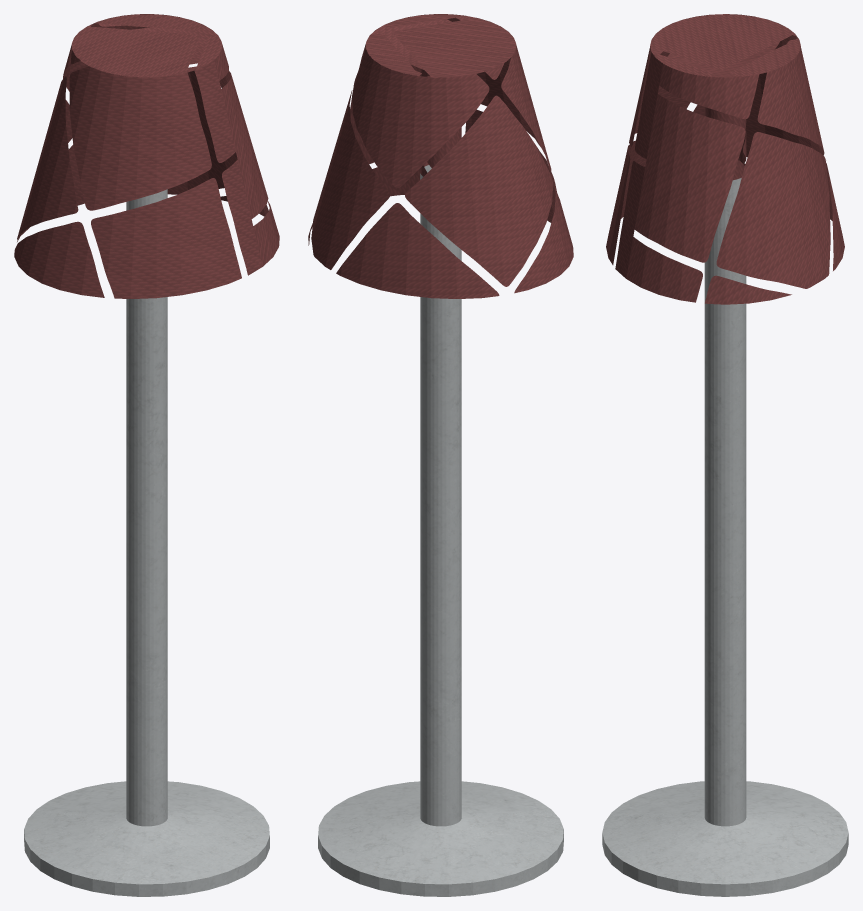
The model's file is PW2_Ieva_Ulme_textured.fbx.
3 renders of one model, left to right at view 1: azimuth 30°, elevation 25°; view 2: azimuth 150°, elevation 25°; view 3: azimuth 270°, elevation 25°, orthographic.
Visible parts, largest first — view 1: lamp; view 2: lamp; view 3: lamp.
Part boxes in pixels (left/top/right/bottom): lamp: left=14, top=14, right=279, bottom=896; lamp: left=308, top=14, right=573, bottom=896; lamp: left=602, top=14, right=848, bottom=896.
Bounding box in the file's own units: 0.8816 × 2.83 × 0.7904.
2 materials, 2 textured.
